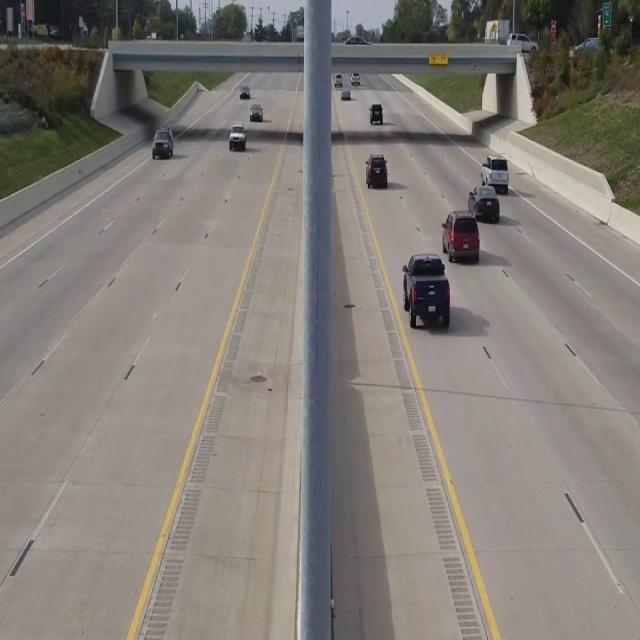car: (366, 153, 388, 188), (152, 128, 173, 159), (229, 123, 246, 151)
